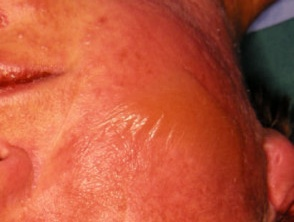SJS-TEN: (1, 0, 249, 222)
